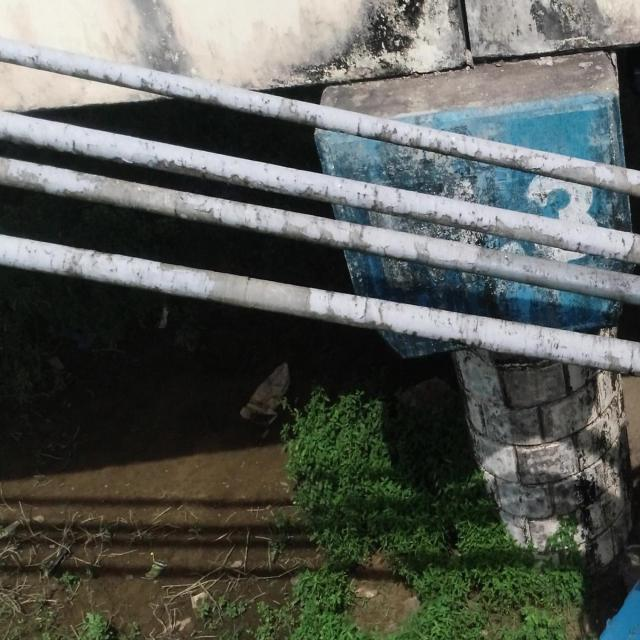crack: (359, 298, 369, 319), (244, 278, 251, 298), (630, 350, 634, 372), (379, 302, 383, 321), (356, 121, 361, 136), (174, 201, 178, 218), (383, 245, 389, 256), (475, 317, 479, 332), (576, 242, 581, 252), (613, 252, 620, 259), (72, 140, 76, 152), (166, 82, 170, 93), (325, 186, 329, 196), (427, 309, 432, 317), (584, 245, 591, 250), (390, 206, 394, 214), (456, 312, 460, 320), (600, 250, 605, 256)
